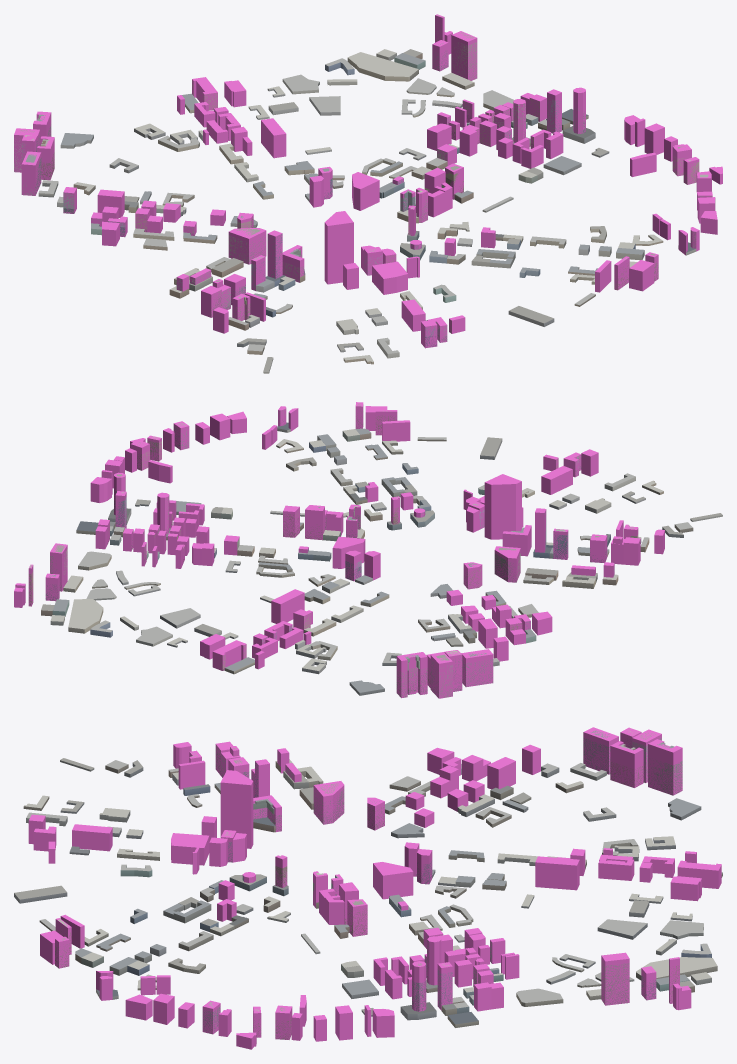
The model's file is bld_9_1.fbx.
3 renders of one model, top to bottom at view 1: azimuth 30°, elevation 25°; view 2: azimuth 150°, elevation 25°; view 3: azimuth 270°, elevation 25°, orthographic. The views are drawn at different scales.
Parts seen in each view (by area): view 1: bld_9_1_COL, bld_9_1_LOD0; view 2: bld_9_1_COL, bld_9_1_LOD0; view 3: bld_9_1_COL, bld_9_1_LOD0.
Part boxes in pixels (x1,y1,x2,y2): bld_9_1_COL: [14, 14, 722, 348]; bld_9_1_LOD0: [14, 15, 711, 373]; bld_9_1_COL: [14, 402, 664, 698]; bld_9_1_LOD0: [29, 404, 722, 698]; bld_9_1_COL: [28, 727, 721, 1049]; bld_9_1_LOD0: [14, 729, 722, 1039].
Size of what is drawn, in the model's own units: 2052 by 210 by 2119.
